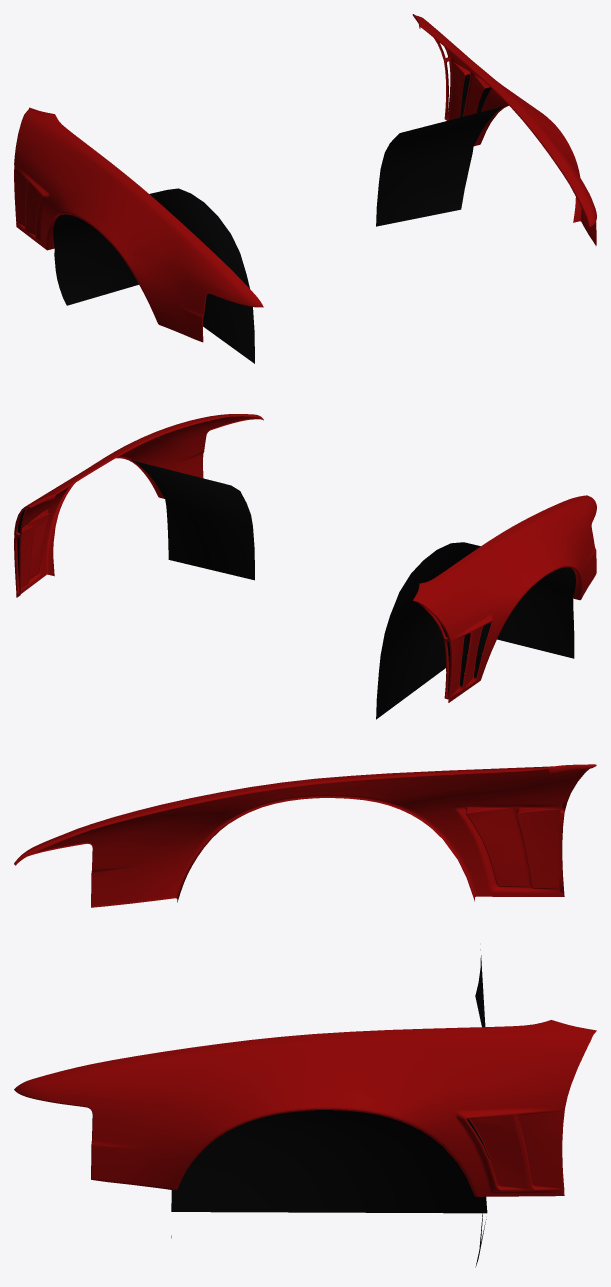
Rendered from frontfenders_carmodifywonderglare.glb.
The picture shows the model from 3 angles, top to bottom: view 1: azimuth 30°, elevation 25°; view 2: azimuth 150°, elevation 25°; view 3: azimuth 270°, elevation 25°; orthographic projection. The views are drawn at different scales.
Parts seen in each view (by area): view 1: Fenders, Undercarriage; view 2: Fenders, Undercarriage, Cover; view 3: Fenders, Undercarriage.
Part boxes in pixels (x1,y1,x2,y2): Fenders: (14, 14, 596, 342); Undercarriage: (53, 105, 507, 363); Fenders: (14, 414, 596, 702); Undercarriage: (129, 459, 575, 719); Cover: (17, 509, 490, 694); Fenders: (14, 764, 596, 1196); Undercarriage: (171, 949, 487, 1267).
Size of the model in its own units: 1.79 by 0.6408 by 1.41.
